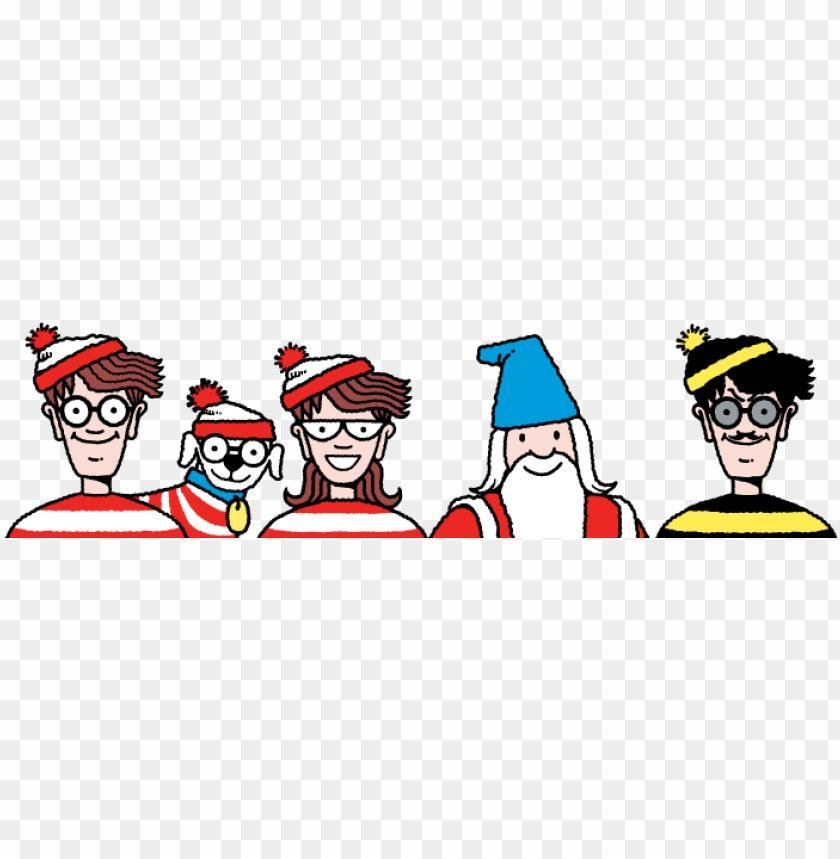waldos: (7, 326, 182, 539)
